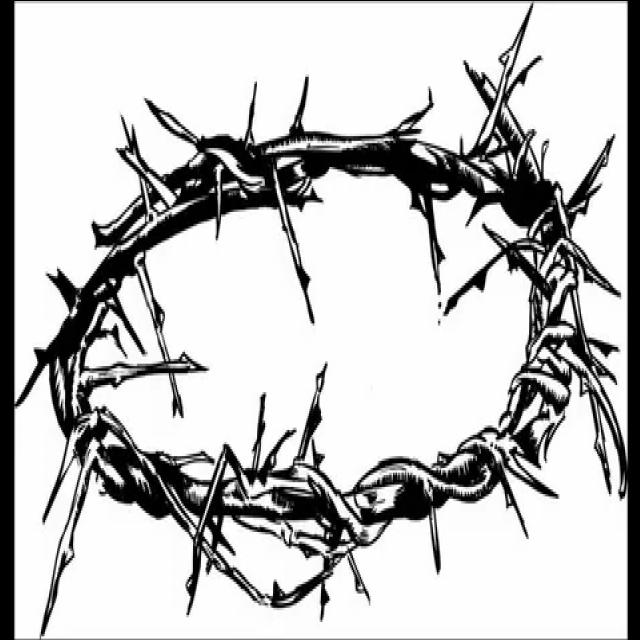crown: (40, 73, 598, 580)
